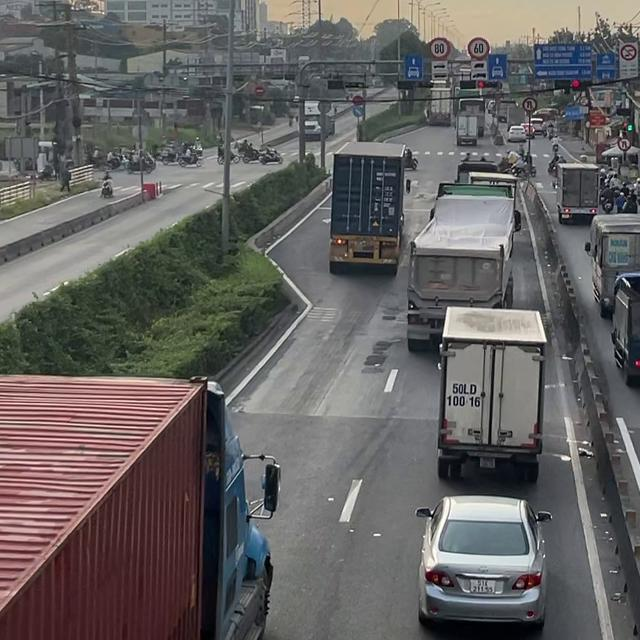car: (414, 494, 552, 629), (507, 125, 526, 142)
motorcycle: (599, 187, 619, 213), (547, 153, 564, 176), (99, 171, 113, 198), (402, 156, 419, 170)
truck: (0, 372, 280, 639), (436, 305, 547, 483), (406, 182, 522, 352), (328, 141, 413, 275), (584, 213, 639, 317), (610, 271, 639, 386), (553, 161, 601, 224), (470, 171, 516, 215), (299, 99, 333, 140), (456, 96, 486, 136), (426, 86, 452, 125), (456, 160, 498, 182), (455, 111, 477, 146), (506, 105, 525, 131)
